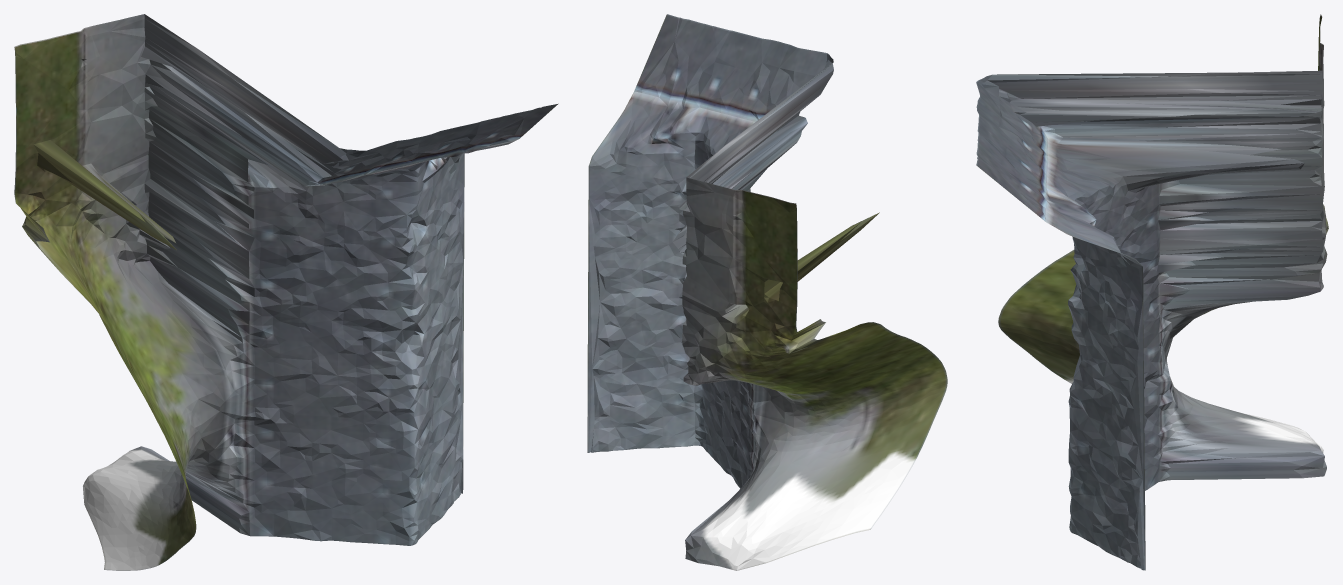
File: map_10_100.obj
The picture shows the model from 3 angles, left to right: view 1: azimuth 30°, elevation 25°; view 2: azimuth 150°, elevation 25°; view 3: azimuth 270°, elevation 25°; orthographic projection. The views are drawn at different scales.
Parts seen in each view (by area): view 1: grp1; view 2: grp1; view 3: grp1.
Boxes of the visible parts, x1,y1,x2,y2 form: grp1: (14, 14, 558, 570); grp1: (587, 14, 947, 570); grp1: (976, 14, 1328, 570).
Bounding box in the file's own units: 8 × 10 × 7.88.
1 material, 1 textured.
